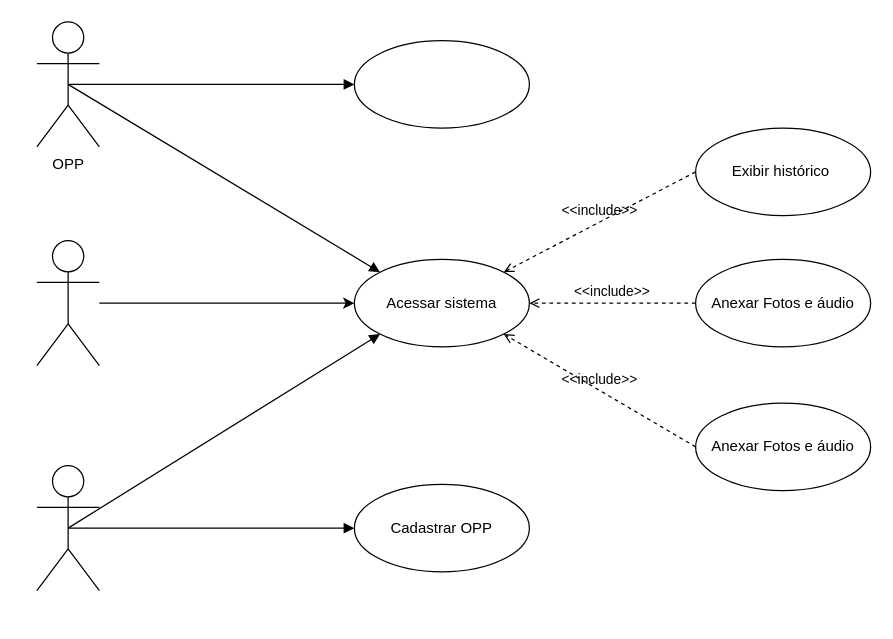
Image size: 893x639. Some labels were removed from this diagram. The box of each missing label's shape, as (x1, y1, x2, y2) in pixels:
Administrador: (36, 464, 99, 591)
Cadastrar Professor: (353, 39, 529, 128)
Professor: (36, 239, 99, 366)
